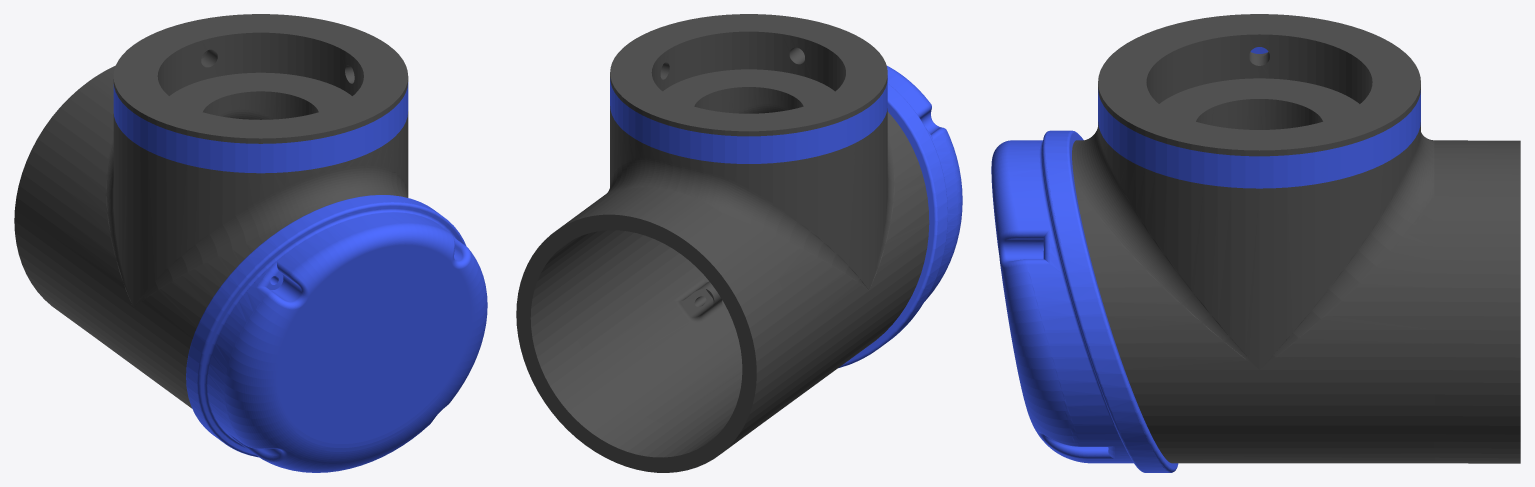
3 views of the same model, side by side, from view 1: azimuth 30°, elevation 25°; view 2: azimuth 150°, elevation 25°; view 3: azimuth 270°, elevation 25° (orthographic). The views are drawn at different scales.
Visible parts, largest first — view 1: l5_visual.001; view 2: l5_visual.001; view 3: l5_visual.001.
Boxes of the visible parts, x1,y1,x2,y2 form: l5_visual.001: (14, 14, 487, 472); l5_visual.001: (516, 14, 962, 472); l5_visual.001: (991, 14, 1520, 472).
Size of the model in its own units: 0.106 by 0.1638 by 0.128.
